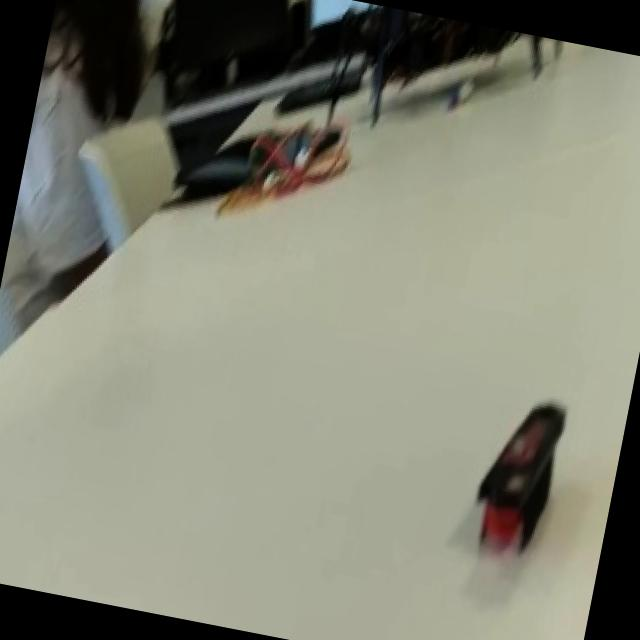2_NanoBug_Negro: (445, 371, 584, 600)
